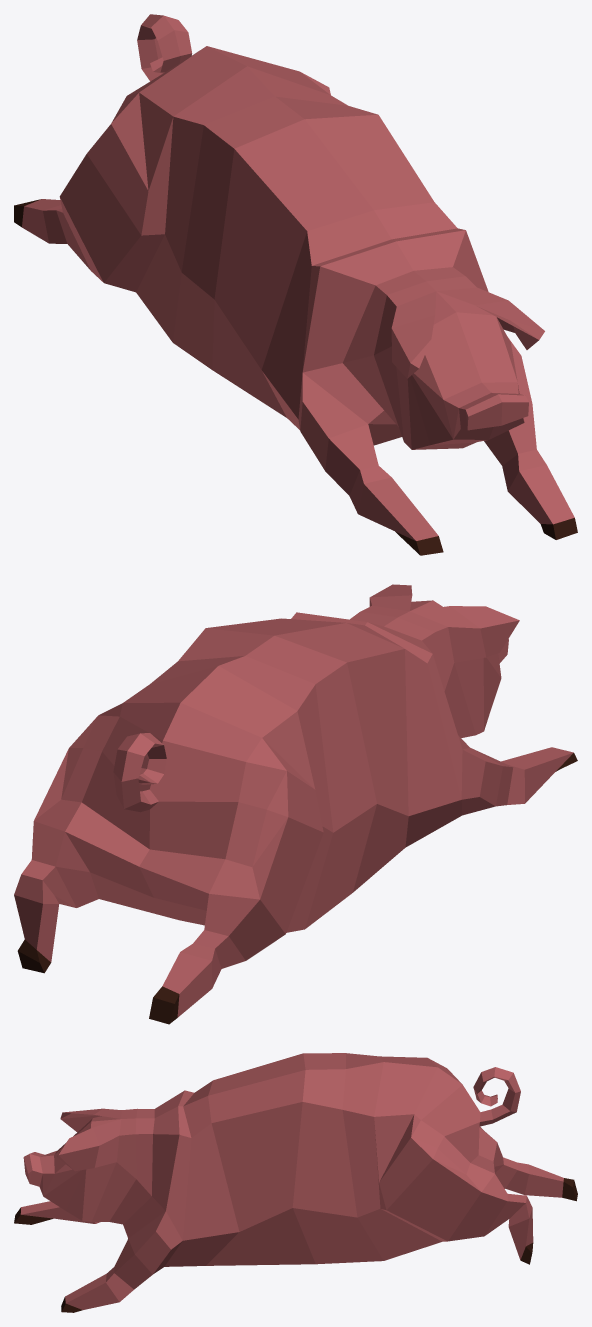
File: Pig_000019.obj
3 views of the same model, one above another, from view 1: azimuth 30°, elevation 25°; view 2: azimuth 150°, elevation 25°; view 3: azimuth 270°, elevation 25° (orthographic). The views are drawn at different scales.
Visible parts, largest first — view 1: Pig_Cylinder; view 2: Pig_Cylinder; view 3: Pig_Cylinder.
Part boxes in pixels (x1,y1,x2,y2): Pig_Cylinder: [14, 14, 577, 555]; Pig_Cylinder: [14, 584, 577, 1024]; Pig_Cylinder: [14, 1053, 577, 1312].
Size of the model in its own units: 3.3 by 4.36 by 10.15.
